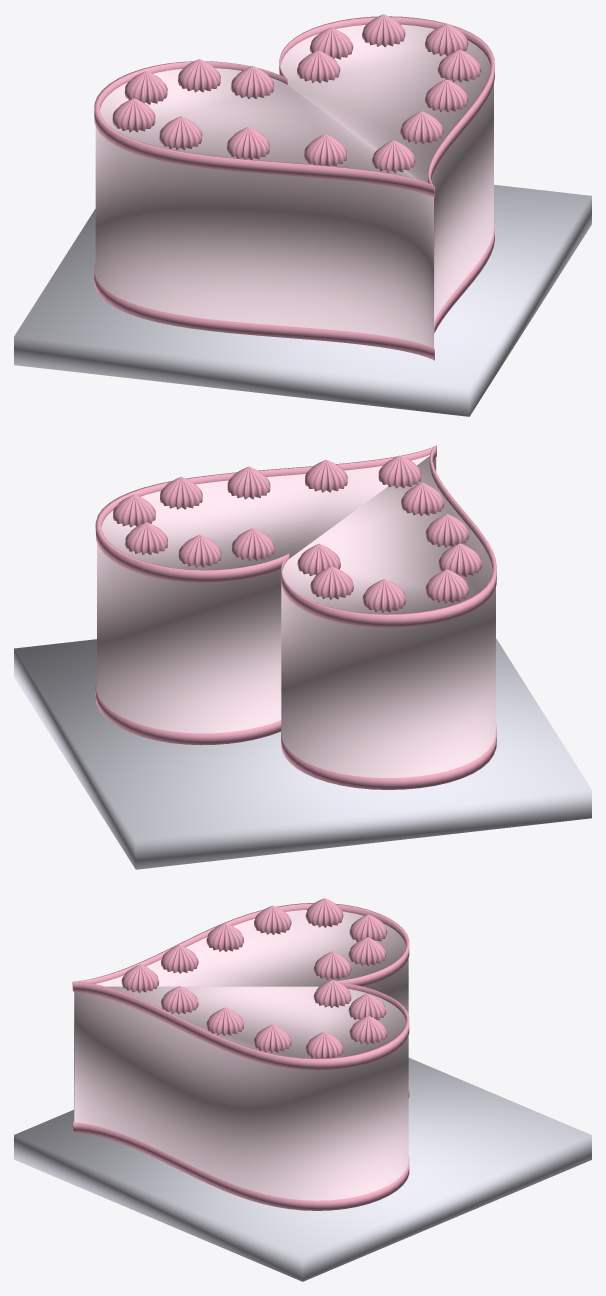
Rendered from heart_strawberry_style1.glb.
3 renders of one model, top to bottom at view 1: azimuth 30°, elevation 25°; view 2: azimuth 150°, elevation 25°; view 3: azimuth 270°, elevation 25°, orthographic. The views are drawn at different scales.
Visible parts, largest first — view 1: HeartCake, IcingStand, IcingRing, IcingRing.001, design12, design9, design11, design8, design13, design5, design2, design15 (+7 smaller); view 2: HeartCake, IcingStand, IcingRing, IcingRing.001, design12, design10, design11, design8, design7, design2, design1, design14 (+7 smaller); view 3: HeartCake, IcingStand, IcingRing, IcingRing.001, design12, design9, design8, design11, design13, design7, design1, design5 (+7 smaller).
Boxes of the visible parts, box(x1,y1,x2,y2) form: HeartCake: box(95, 24, 493, 348); IcingStand: box(14, 184, 591, 416); IcingRing: box(94, 16, 494, 197); IcingRing.001: box(94, 220, 494, 360); design12: box(112, 98, 155, 132); design9: box(159, 116, 202, 150); design11: box(178, 59, 220, 92); design8: box(227, 126, 269, 159); design13: box(231, 66, 273, 99); design5: box(425, 79, 468, 112); design2: box(372, 140, 415, 173); design15: box(362, 14, 405, 47); HeartCake: box(97, 455, 495, 777); IcingStand: box(14, 638, 591, 869); IcingRing: box(95, 445, 496, 627); IcingRing.001: box(95, 681, 496, 789); design12: box(425, 569, 468, 603); design10: box(362, 579, 405, 612); design11: box(310, 566, 353, 599); design8: box(425, 514, 468, 547); design7: box(401, 482, 444, 515); design2: box(378, 455, 421, 488); design1: box(231, 528, 274, 560); design14: box(178, 534, 221, 567); HeartCake: box(74, 910, 408, 1200); IcingStand: box(14, 1058, 591, 1281); IcingRing: box(72, 903, 409, 1070); IcingRing.001: box(72, 1079, 409, 1210); design12: box(305, 898, 343, 927); design9: box(254, 905, 291, 934); design8: box(206, 923, 243, 951); design11: box(348, 937, 386, 965); design13: box(313, 951, 351, 979); design7: box(161, 945, 198, 973); design1: box(313, 979, 351, 1007); design5: box(206, 1007, 243, 1035).
Bounding box in the file's own units: 4.24 × 1.58 × 4.24.
